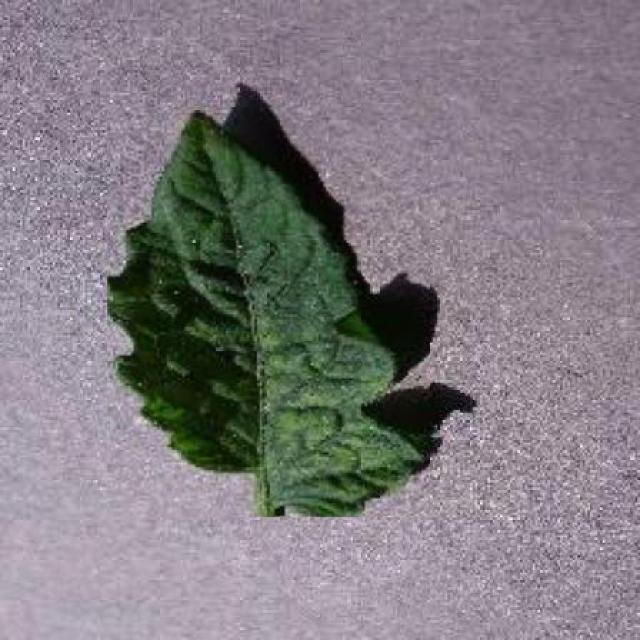Mosaic Virus: (108, 107, 431, 517)
